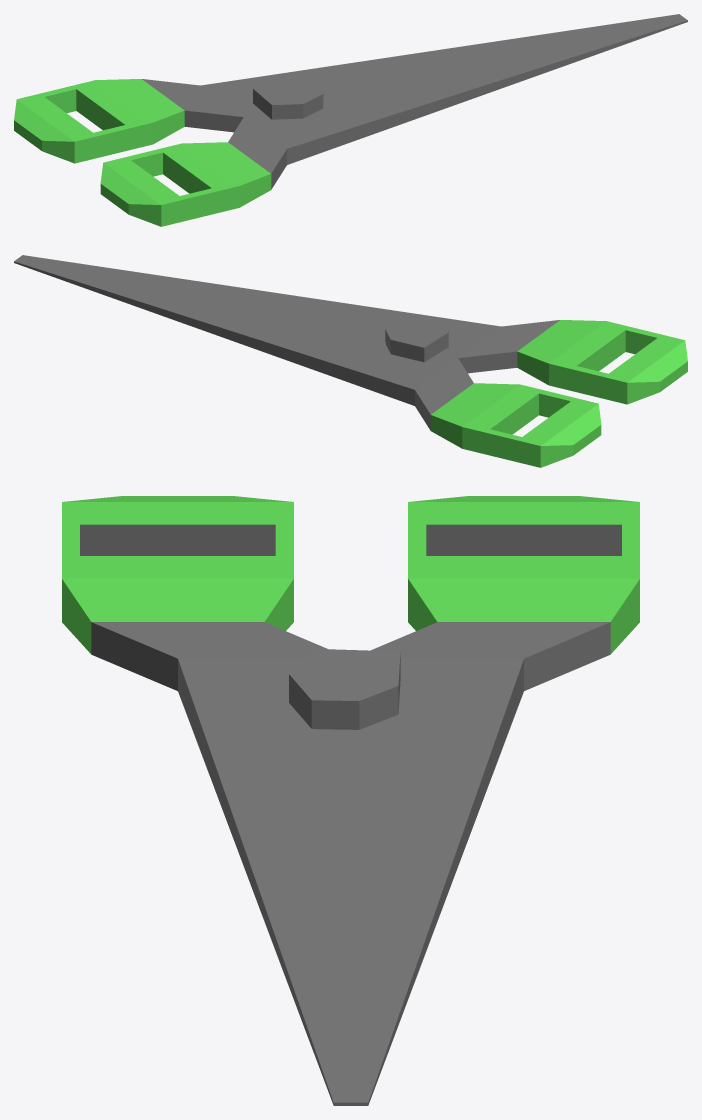
File: scissors.fbx
3 views of the same model, one above another, from view 1: azimuth 30°, elevation 25°; view 2: azimuth 150°, elevation 25°; view 3: azimuth 270°, elevation 25° (orthographic). The views are drawn at different scales.
Visible parts, largest first — view 1: Cube; view 2: Cube; view 3: Cube.
Part boxes in pixels (x1=…): Cube: x1=14, y1=14, x2=687, y2=226; Cube: x1=14, y1=255, x2=687, y2=467; Cube: x1=62, y1=496, x2=639, y2=1105.
Bounding box in the file's own units: 817 × 42.42 × 334.
